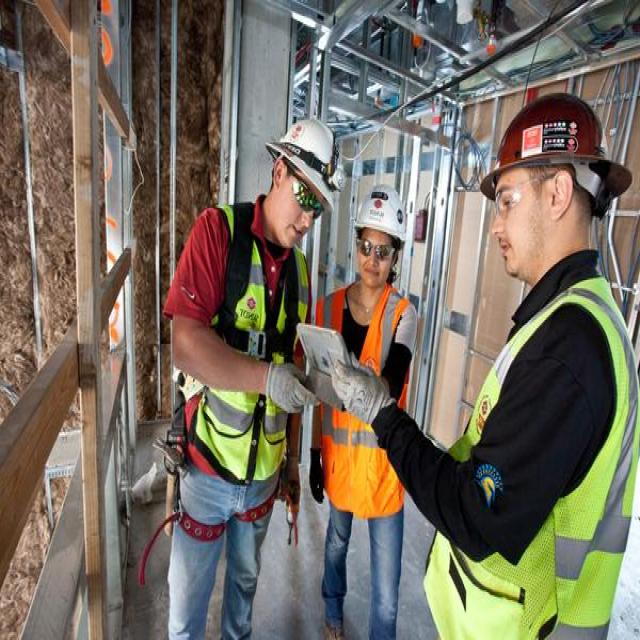Reflective-Jacket: (422, 280, 636, 637), (192, 208, 313, 488), (313, 285, 414, 515)
Safety-Helmet: (475, 86, 629, 204), (268, 108, 346, 206), (352, 179, 410, 242)
